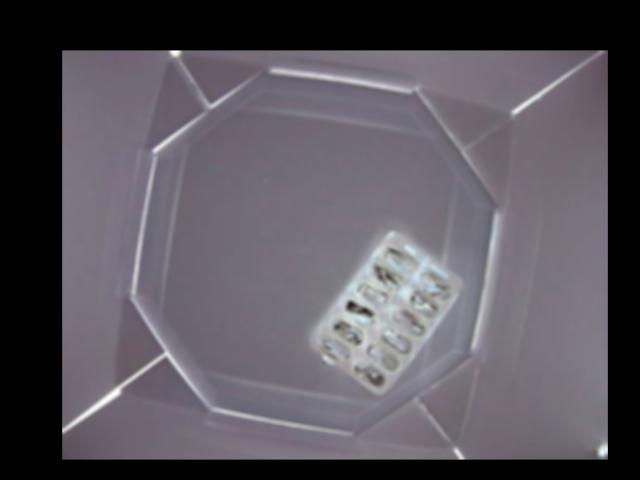Medicine: (314, 231, 464, 393)
